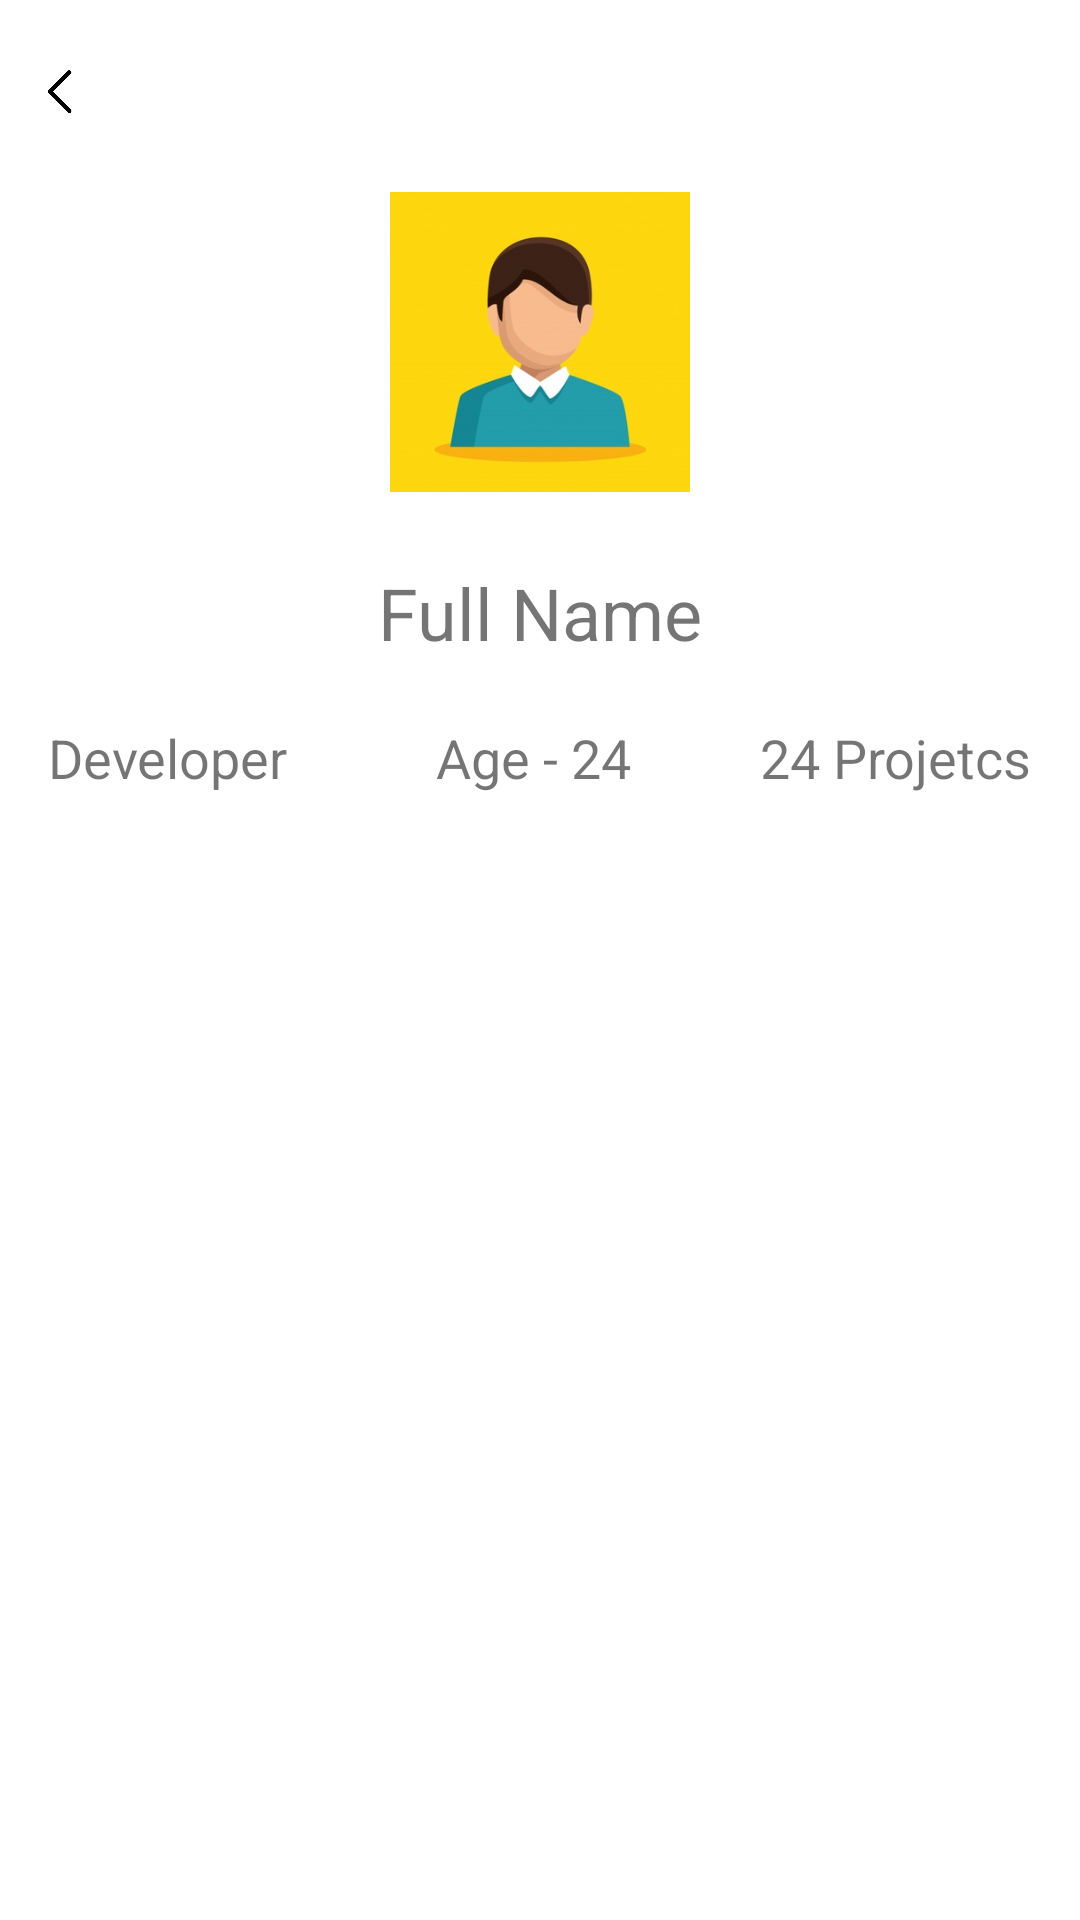

Locate icon controls on the screen. Image size 1080×1920, boxes as (x1, y1, x2, y2).
back: (48, 70, 72, 113)
